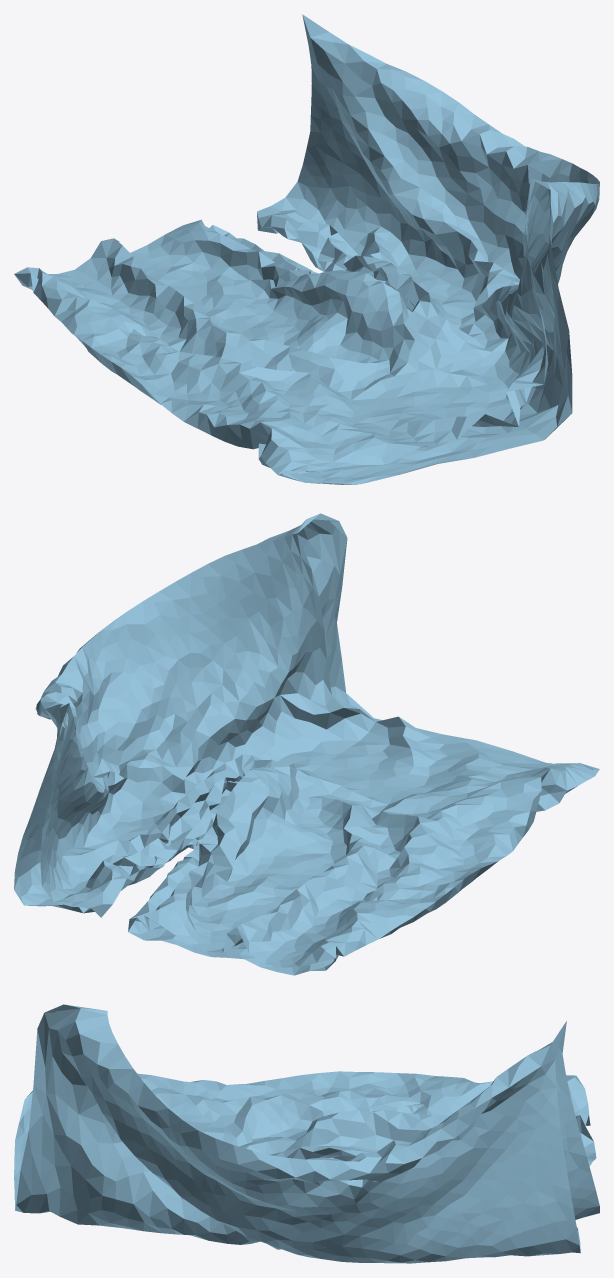
The model's file is frame_09.glb.
The picture shows the model from 3 angles, top to bottom: view 1: azimuth 30°, elevation 25°; view 2: azimuth 150°, elevation 25°; view 3: azimuth 270°, elevation 25°; orthographic projection. The views are drawn at different scales.
Parts seen in each view (by area): view 1: frame_09.obj; view 2: frame_09.obj; view 3: frame_09.obj.
Boxes of the visible parts, bbox=[...] form: frame_09.obj: bbox=[14, 14, 599, 484]; frame_09.obj: bbox=[14, 513, 599, 975]; frame_09.obj: bbox=[14, 1004, 599, 1263].
Bounding box in the file's own units: 1.26 × 0.6538 × 1.5.
